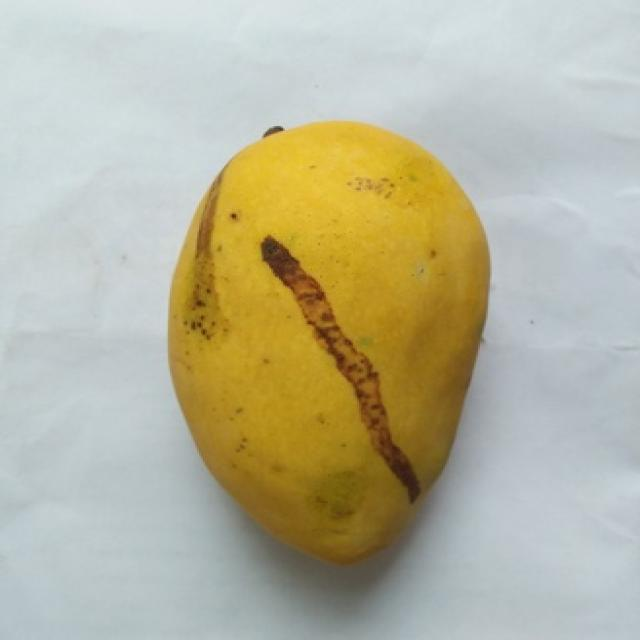Mango: (170, 123, 486, 562)
